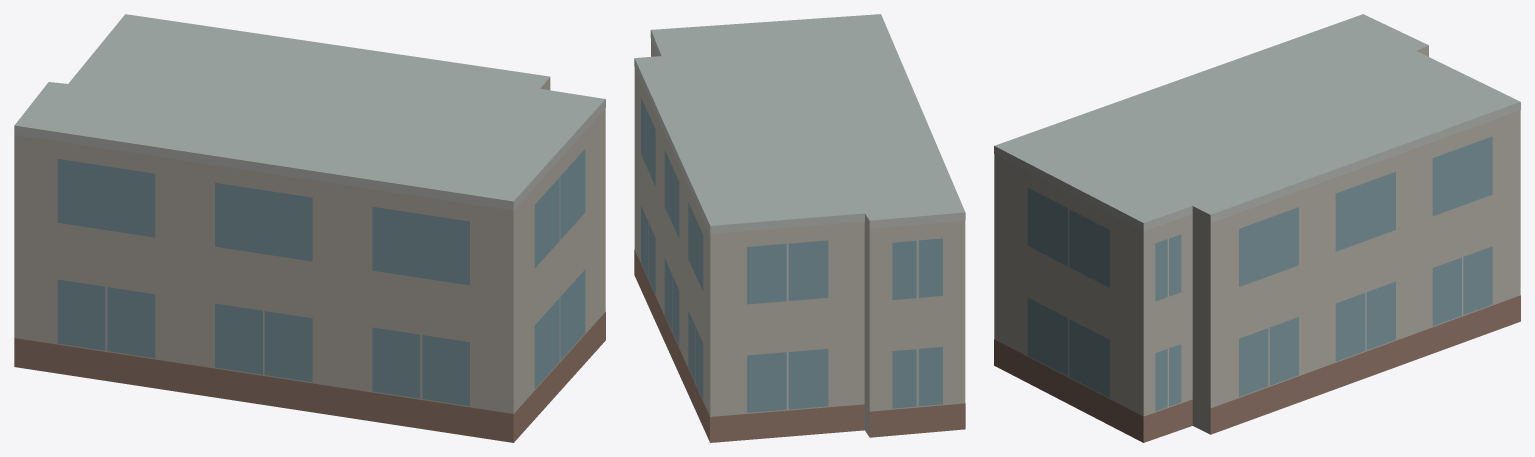
Rendered from survey-upis-32496541.glb.
3 views of the same model, side by side, from view 1: azimuth 30°, elevation 25°; view 2: azimuth 150°, elevation 25°; view 3: azimuth 270°, elevation 25° (orthographic). The views are drawn at different scales.
Parts seen in each view (by area): view 1: survey-upis-32496541.tmp; view 2: survey-upis-32496541.tmp; view 3: survey-upis-32496541.tmp.
Part boxes in pixels (box(x1,y1,x2,y2)): survey-upis-32496541.tmp: box(14, 14, 605, 442); survey-upis-32496541.tmp: box(634, 14, 965, 442); survey-upis-32496541.tmp: box(994, 14, 1520, 442).
Size of the model in its own units: 13.27 by 6.5 by 14.12.
